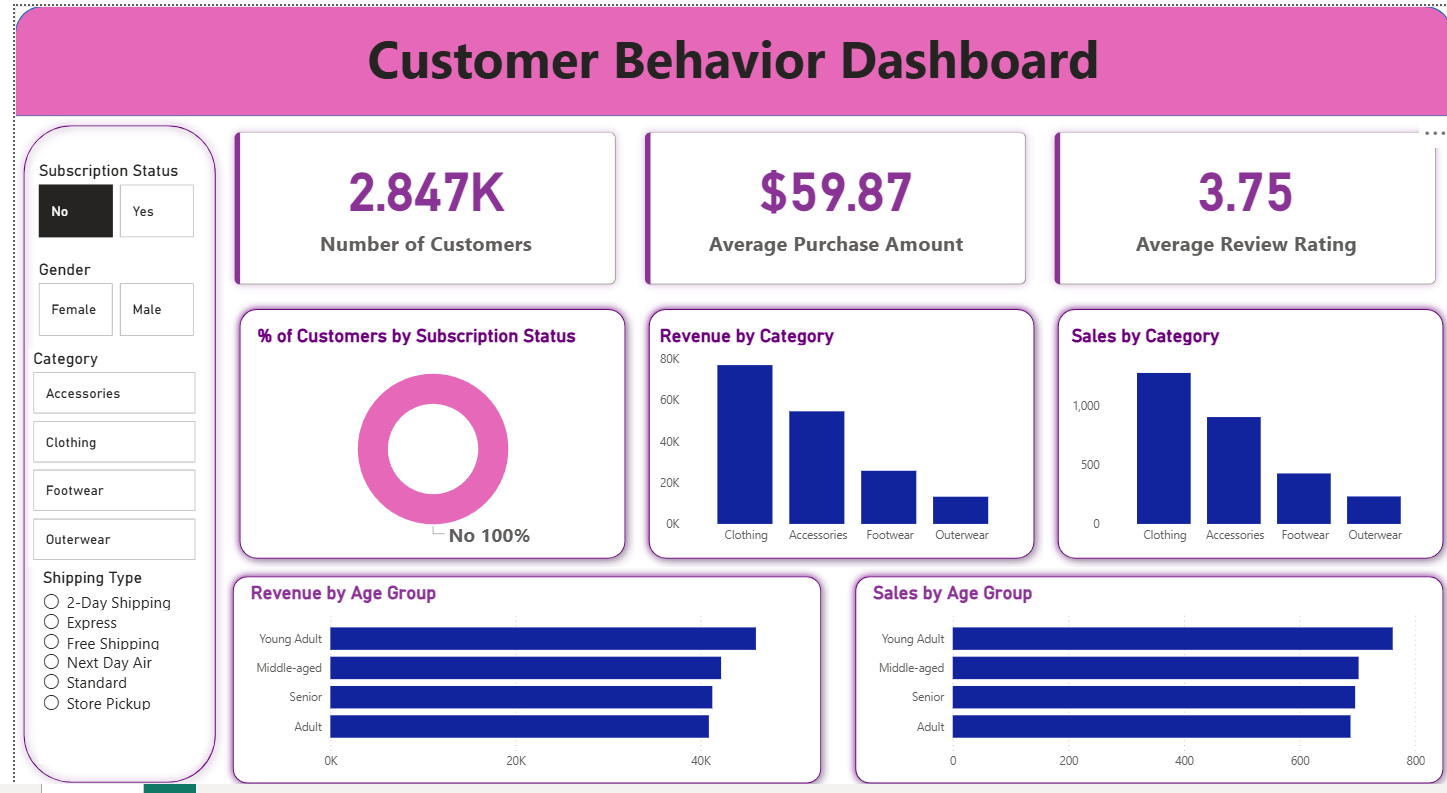

This screenshot's page, from the dashboard's own definition file:
{"tool":"powerbi","page":{"name":"Page 1","canvas":[1280,720],"ordinal":0},"visuals":[{"type":"cardVisual","fields":{"Data":["public customer.Number of customers","public customer.Average Purchase Amount","public customer.Average Review Rating"]},"box":[196.2,131.2,1068.8,201.2],"z":0,"group":"g3"},{"type":"group","id":"g1","title":"Group 1","box":[735.7,538.6,524.3,181.4],"z":0},{"type":"shape","box":[735.7,538.6,524.3,181.4],"z":0,"group":"g1"},{"type":"shape","box":[0,0,1280.4,131],"z":1000,"group":"g3"},{"type":"group","id":"g2","title":"Group 2","box":[0,131.4,201.4,588.6],"z":1000},{"type":"clusteredBarChart","title":"Sales by Age Group","fields":{"Y":["CountNonNull(public customer.customer_id)"],"Category":["public customer.age_group"]},"box":[763.6,548.7,469.1,161.3],"z":1000,"group":"g1"},{"type":"group","id":"g3","title":"Group 3","box":[0,0,1280.4,332.5],"z":2000},{"type":"textbox","box":[0,29.6,1280.4,101.4],"z":2000,"group":"g3"},{"type":"group","id":"g4","title":"Group 4","box":[211.2,312.2,1048,226.6],"z":3000},{"type":"shape","box":[211.2,313.8,345,223.8],"z":3000,"group":"g4"},{"type":"donutChart","title":"% of Customers by Subscription Status","fields":{"Category":["public customer.subscription_status"],"Y":["CountNonNull(public customer.customer_id)"]},"box":[235,332.5,297.5,186.2],"z":4000,"group":"g4"},{"type":"group","id":"g5","title":"Group 5","box":[211.4,538.6,531.4,181.4],"z":4000},{"type":"shape","box":[556.2,313.8,345,225],"z":5000,"group":"g4"},{"type":"shape","box":[898.2,312.2,361.4,222.9],"z":6000,"group":"g6"},{"type":"clusteredColumnChart","title":" Revenue by Category","fields":{"Y":["Sum(public customer.purchase_amount)"],"Category":["public customer.category"]},"box":[571.2,331.3,316.2,190],"z":7000,"group":"g4"},{"type":"clusteredColumnChart","title":"Sales by Category","fields":{"Y":["CountNonNull(public customer.customer_id)"],"Category":["public customer.category"]},"box":[922.5,330.6,311.4,190],"z":8000,"group":"g6"},{"type":"shape","box":[0,131.4,201.4,588.6],"z":9000,"group":"g2"},{"type":"advancedSlicerVisual","fields":{"Values":["public customer.subscription_status"]},"box":[17.1,165.7,158.6,75.7],"z":10000,"group":"g2"},{"type":"advancedSlicerVisual","fields":{"Values":["public customer.gender"]},"box":[17.3,241.8,167.3,72.7],"z":11000,"group":"g2"},{"type":"advancedSlicerVisual","title":"Category","fields":{"Values":["public customer.category"]},"box":[21.4,314.3,162.9,161.4],"z":12000,"group":"g2"},{"type":"listSlicer","fields":{"Values":["public customer.shipping_type"]},"box":[17.3,485.4,167.3,214.5],"z":13000,"group":"g2"},{"type":"shape","box":[211.4,538.6,531.4,181.4],"z":14000,"group":"g5"},{"type":"clusteredBarChart","title":"Revenue by Age Group","fields":{"Y":["Sum(public customer.purchase_amount)"],"Category":["public customer.age_group"]},"box":[237.8,550,476.8,160.2],"z":15000,"group":"g5"},{"type":"group","id":"g6","title":"Group 6","box":[898.2,312.2,360.9,222.7],"z":15008,"group":"g4"}]}

Visuals, with their boxes in screenshot pixels (x1, y1, x2, y2), scaled from the page's 1280x720 canvas onto the 1447x793 screenshot:
cardVisual - public customer.Number of customers x public customer.Average Purchase Amount: BBox(222, 145, 1430, 366)
"Group 1" group: BBox(832, 593, 1424, 792)
shape: BBox(832, 593, 1424, 792)
shape: BBox(0, 0, 1446, 144)
"Group 2" group: BBox(0, 145, 228, 792)
"Sales by Age Group" clusteredBarChart: BBox(863, 604, 1394, 782)
"Group 3" group: BBox(0, 0, 1446, 366)
textbox: BBox(0, 33, 1446, 144)
"Group 4" group: BBox(239, 344, 1423, 593)
shape: BBox(239, 346, 629, 592)
"% of Customers by Subscription Status" donutChart: BBox(266, 366, 602, 571)
"Group 5" group: BBox(239, 593, 840, 792)
shape: BBox(629, 346, 1019, 593)
shape: BBox(1015, 344, 1424, 589)
" Revenue by Category" clusteredColumnChart: BBox(646, 365, 1003, 574)
"Sales by Category" clusteredColumnChart: BBox(1043, 364, 1395, 573)
shape: BBox(0, 145, 228, 792)
advancedSlicerVisual - public customer.subscription_status: BBox(19, 183, 199, 266)
advancedSlicerVisual - public customer.gender: BBox(20, 266, 209, 346)
"Category" advancedSlicerVisual: BBox(24, 346, 208, 524)
listSlicer - public customer.shipping_type: BBox(20, 535, 209, 771)
shape: BBox(239, 593, 840, 792)
"Revenue by Age Group" clusteredBarChart: BBox(269, 606, 808, 782)
"Group 6" group: BBox(1015, 344, 1423, 589)
